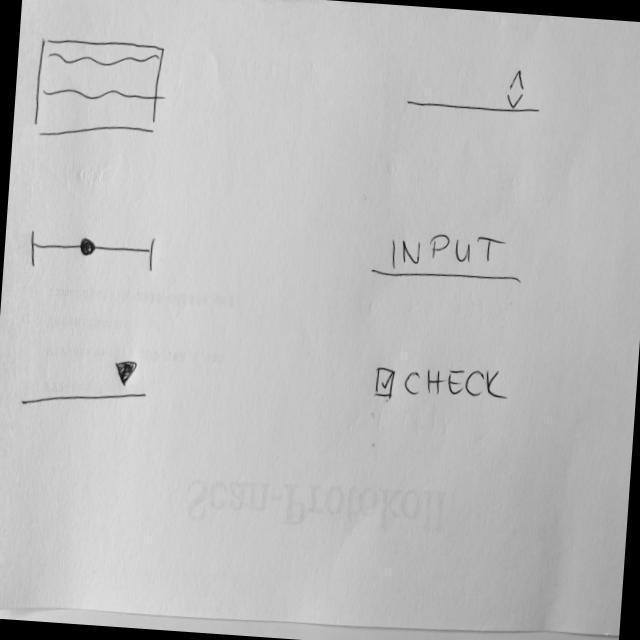checkbox: (373, 359, 514, 412)
input: (370, 224, 527, 288)
number-input: (405, 60, 546, 121)
select: (19, 350, 151, 417)
slider: (27, 226, 160, 278)
textarea: (31, 33, 166, 148)
